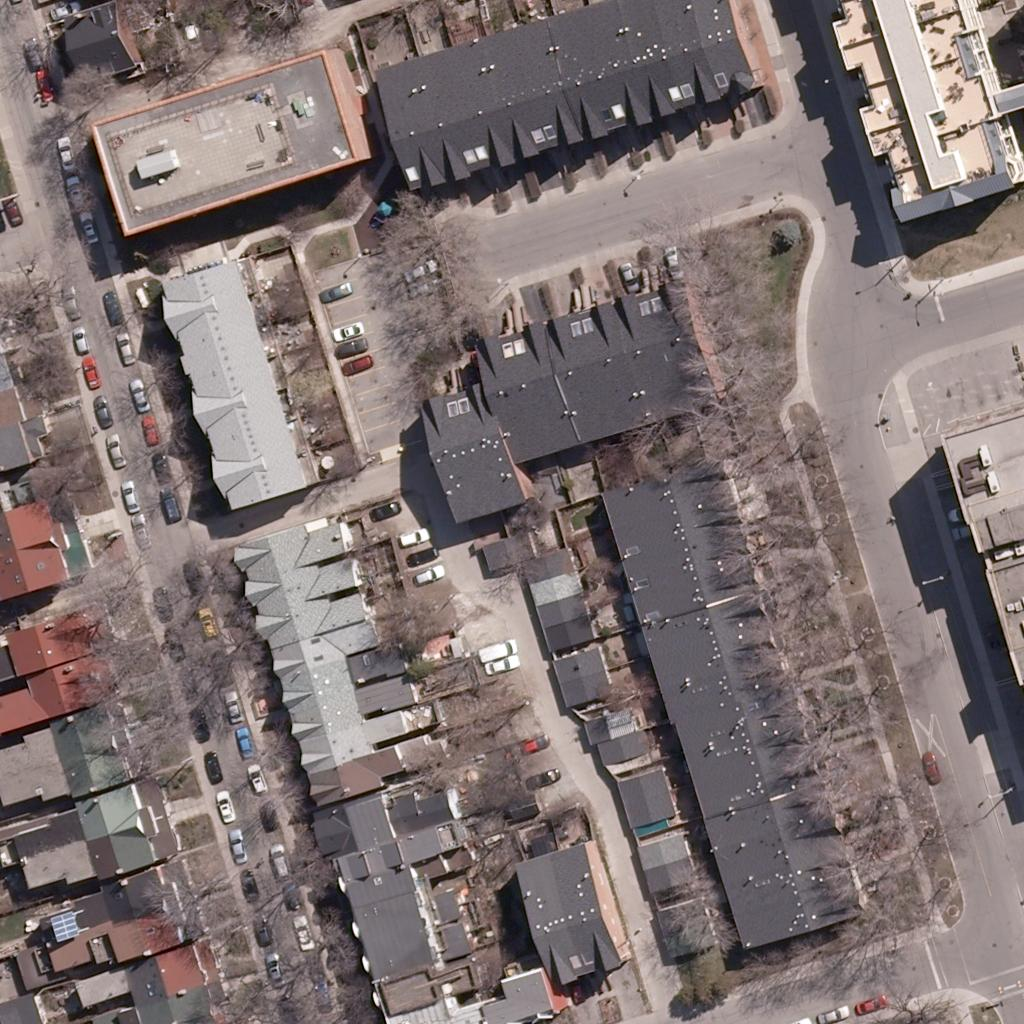car: (175, 17, 209, 51), (192, 17, 226, 51), (15, 39, 49, 73), (28, 70, 62, 104), (47, 135, 81, 169), (58, 178, 92, 212), (71, 211, 105, 245), (653, 244, 687, 278), (401, 255, 435, 289), (608, 257, 642, 291), (404, 271, 438, 305), (317, 273, 351, 307), (56, 289, 90, 323), (95, 296, 129, 330), (330, 314, 364, 348), (64, 325, 98, 359), (333, 328, 367, 362), (108, 333, 142, 367), (338, 345, 372, 379), (72, 358, 106, 392), (123, 379, 157, 413), (86, 395, 120, 429), (135, 418, 169, 452), (97, 434, 131, 468), (98, 434, 132, 468), (99, 434, 133, 468), (143, 449, 177, 483), (144, 449, 178, 483), (112, 479, 146, 513), (113, 479, 147, 513), (153, 490, 187, 524), (368, 494, 402, 528), (944, 495, 978, 529), (121, 507, 155, 541), (948, 514, 982, 548), (395, 518, 429, 552), (403, 539, 437, 573), (175, 558, 209, 592), (406, 559, 440, 593), (143, 590, 177, 624), (190, 607, 224, 641), (156, 627, 190, 661), (478, 632, 512, 666), (483, 647, 517, 681), (203, 653, 237, 687), (169, 666, 203, 700), (216, 690, 250, 724), (181, 710, 215, 744), (227, 725, 261, 759), (516, 729, 550, 763), (194, 751, 228, 785), (914, 753, 948, 787), (526, 762, 560, 796), (238, 763, 272, 797), (252, 800, 286, 834), (219, 828, 253, 862), (261, 846, 295, 880), (230, 869, 264, 903), (274, 877, 308, 911), (244, 915, 278, 949), (283, 918, 317, 952), (284, 918, 318, 952), (257, 953, 291, 987), (302, 955, 336, 989), (304, 977, 338, 1011), (853, 987, 887, 1021), (270, 994, 304, 1024), (0, 193, 29, 227), (813, 997, 847, 1024), (43, 0, 77, 26)
